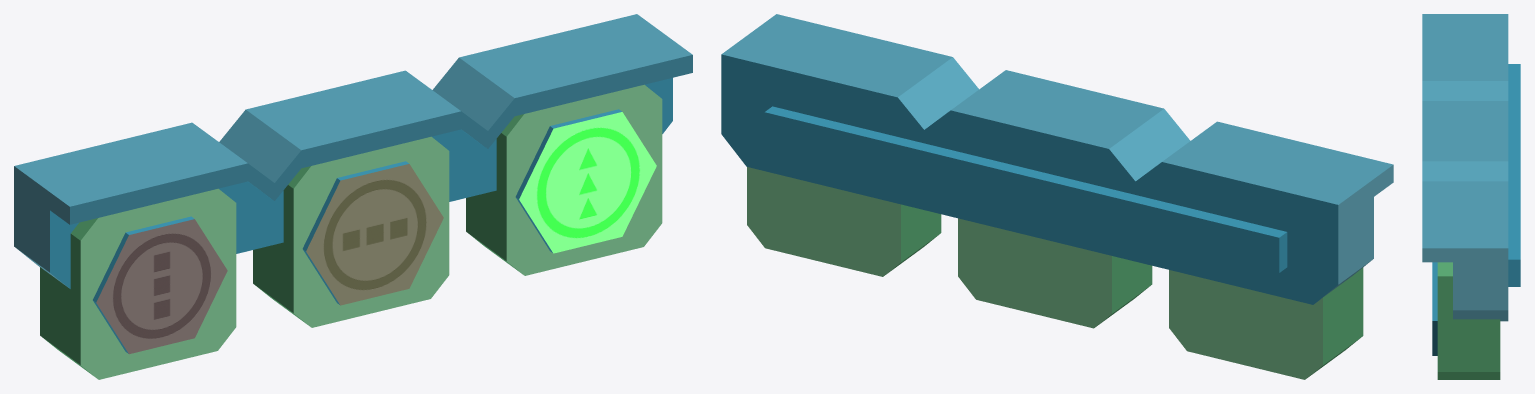
The model's file is Traffic_Light1B_001.FBX.
The picture shows the model from 3 angles, left to right: view 1: azimuth 30°, elevation 25°; view 2: azimuth 150°, elevation 25°; view 3: azimuth 270°, elevation 25°; orthographic projection. The views are drawn at different scales.
Visible parts, largest first — view 1: Traffic_Light1B_001; view 2: Traffic_Light1B_001; view 3: Traffic_Light1B_001.
Part boxes in pixels (box(x1,y1,x2,y2)): Traffic_Light1B_001: box(14, 14, 692, 379); Traffic_Light1B_001: box(721, 14, 1393, 379); Traffic_Light1B_001: box(1422, 14, 1520, 379).
Bounding box in the file's own units: 395 × 70.09 × 115.
